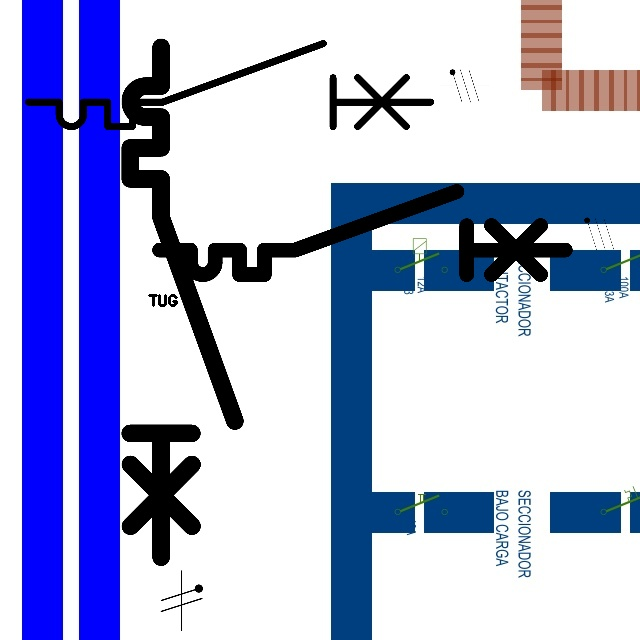interruptor_termomagnetico: (117, 34, 248, 570), (149, 181, 576, 285), (18, 33, 441, 137)
